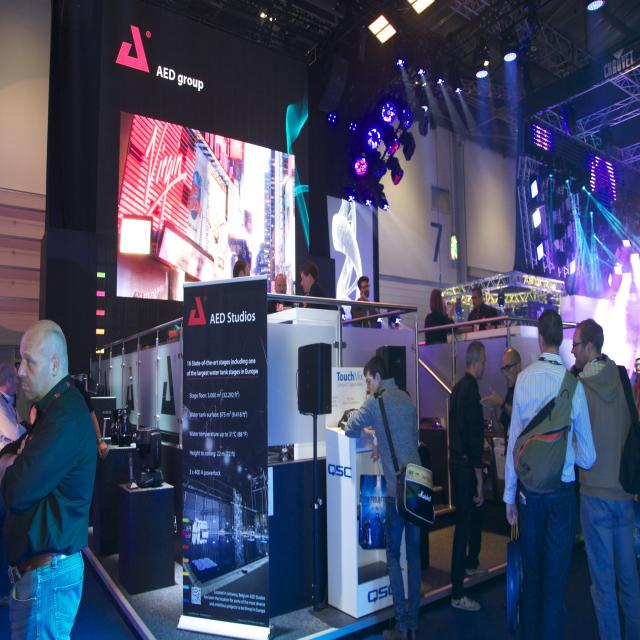body: (0, 317, 102, 640), (500, 308, 598, 640), (342, 353, 435, 640), (568, 315, 640, 640), (26, 346, 100, 569), (444, 338, 489, 612), (480, 347, 522, 458), (0, 360, 28, 451), (466, 286, 503, 332), (299, 261, 332, 310), (351, 276, 378, 328), (424, 288, 448, 342), (267, 272, 296, 316), (633, 356, 640, 422), (232, 260, 251, 278)
